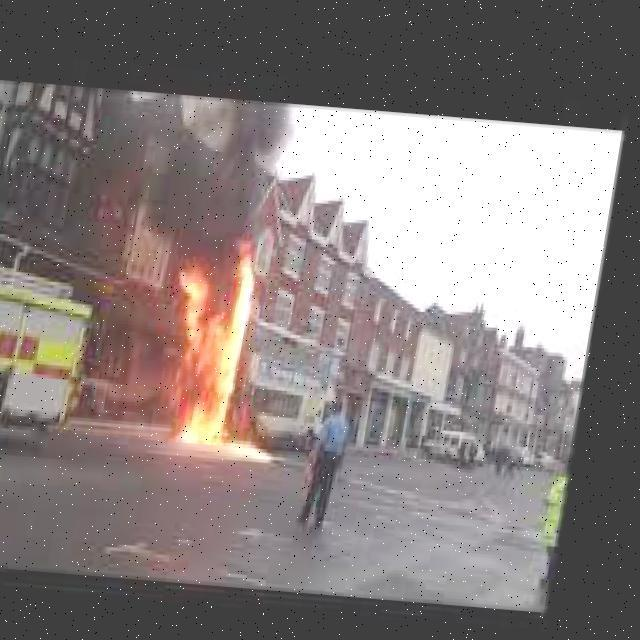Fire: (150, 231, 326, 465)
